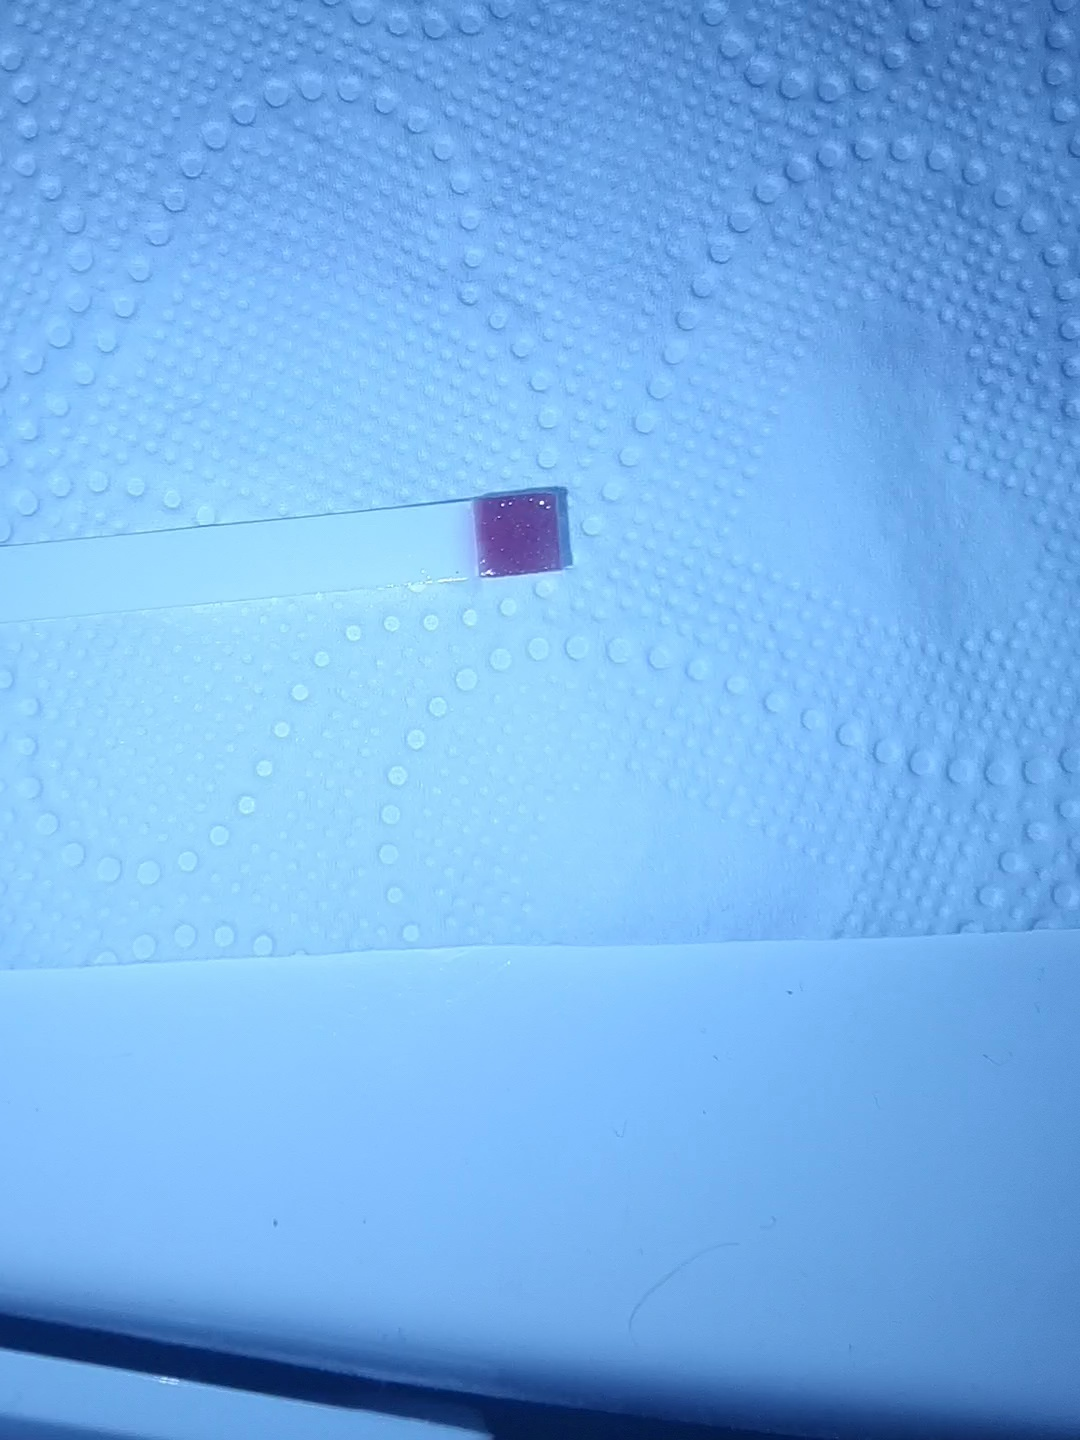keto-tip: (470, 486, 569, 583)
